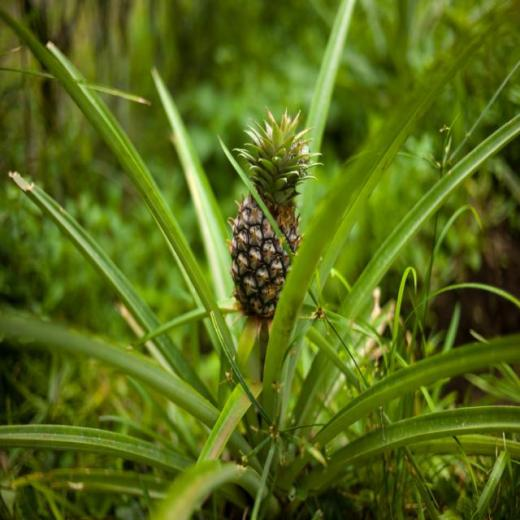Mango: (224, 106, 324, 321)
